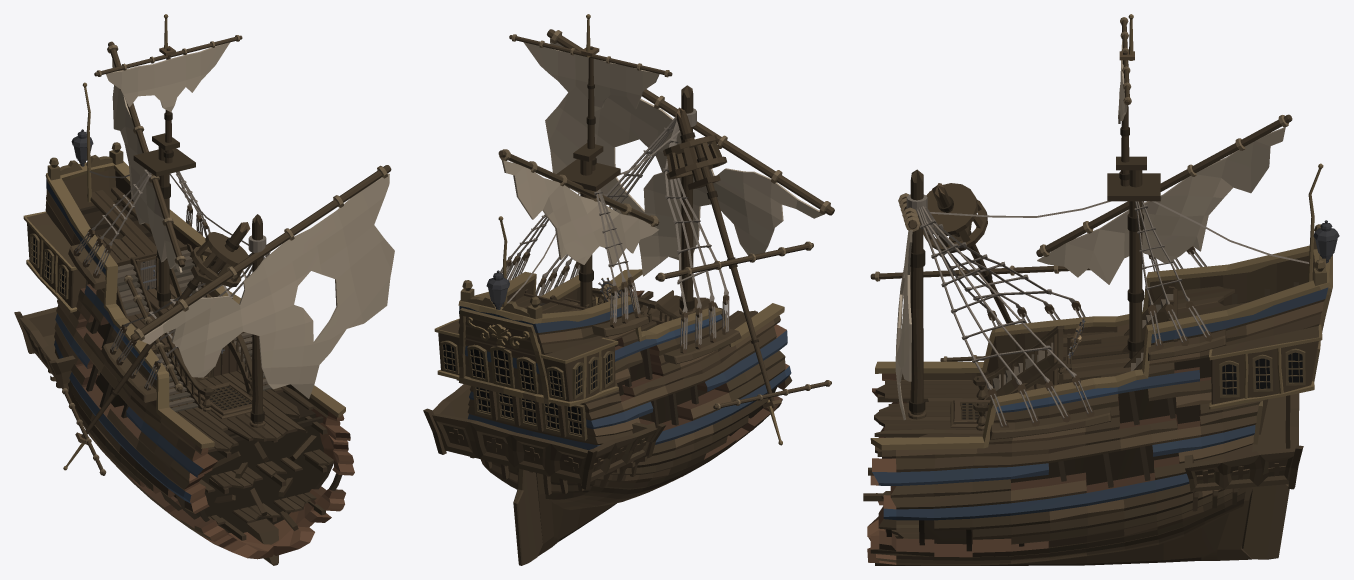
Rendered from SM_Prop_Shipwreck_02.glb.
3 renders of one model, left to right at view 1: azimuth 30°, elevation 25°; view 2: azimuth 150°, elevation 25°; view 3: azimuth 270°, elevation 25°, orthographic. The views are drawn at different scales.
Parts seen in each view (by area): view 1: SM_Prop_Shipwreck_02_Sails; view 2: SM_Prop_Shipwreck_02_Sails; view 3: SM_Prop_Shipwreck_02_Sails.
Part boxes in pixels (box(x1,y1,x2,y2)): SM_Prop_Shipwreck_02_Sails: box(14, 14, 394, 565); SM_Prop_Shipwreck_02_Sails: box(423, 14, 834, 565); SM_Prop_Shipwreck_02_Sails: box(863, 14, 1339, 565).
Size of the model in its own units: 0.1459 by 0.2352 by 0.1843.
